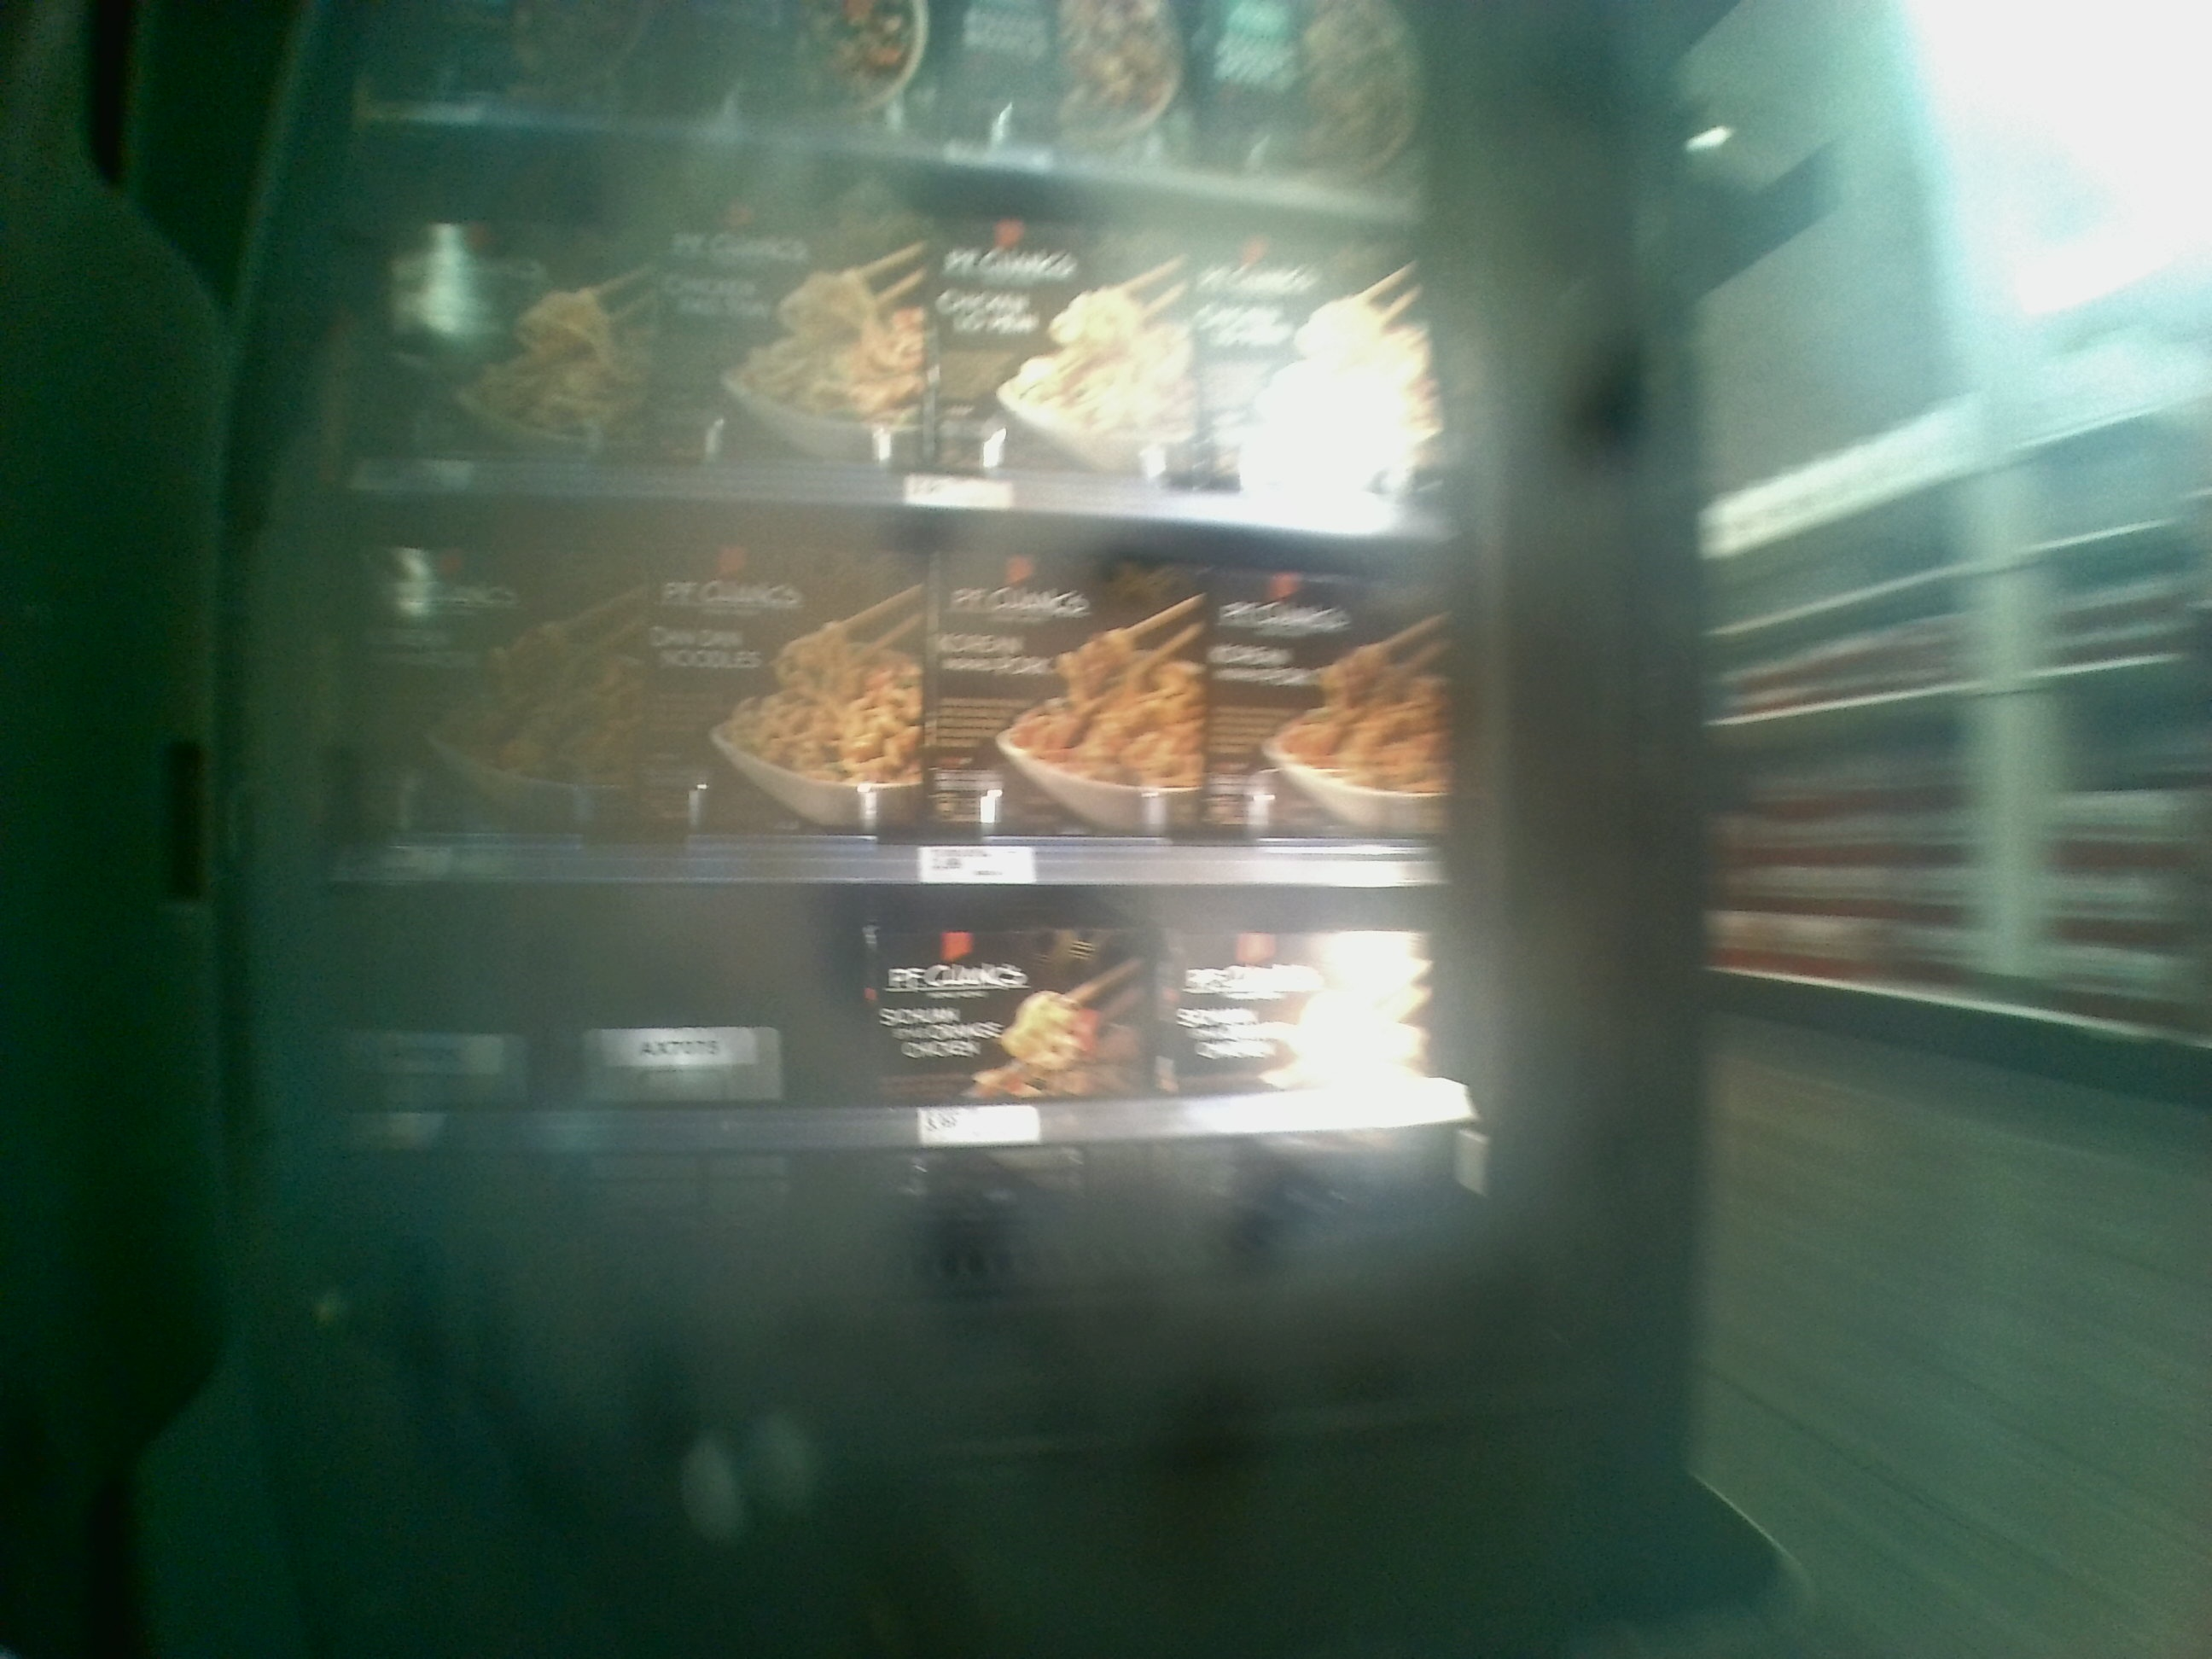shelf: (315, 124, 1442, 561), (310, 467, 1446, 889)
